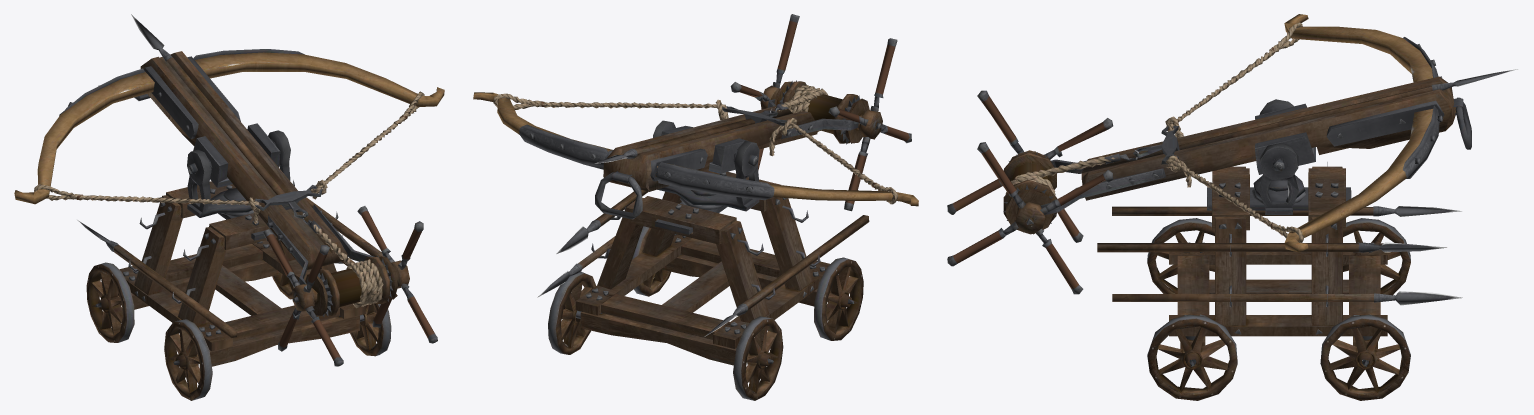
The model's file is artilleria_balista.glb.
The picture shows the model from 3 angles, left to right: view 1: azimuth 30°, elevation 25°; view 2: azimuth 150°, elevation 25°; view 3: azimuth 270°, elevation 25°; orthographic projection. The views are drawn at different scales.
Parts seen in each view (by area): view 1: balista; view 2: balista; view 3: balista.
Boxes of the visible parts, x1,y1,x2,y2 form: balista: [14, 14, 444, 400]; balista: [473, 14, 918, 400]; balista: [947, 14, 1517, 400].
Bounding box in the file's own units: 0.9628 × 0.5427 × 1.
Materials: 1 (1 with a texture image).
